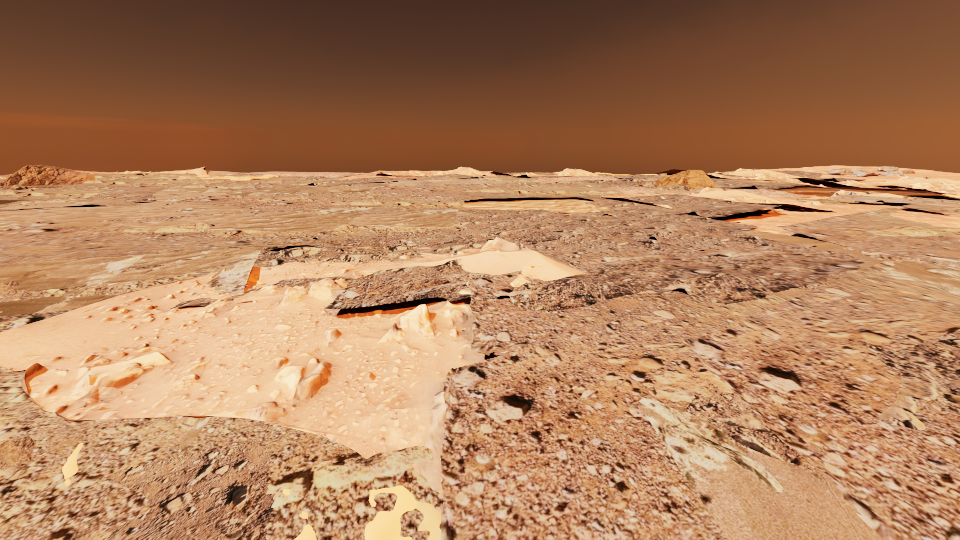bedrock: (114, 173, 872, 311), (28, 437, 443, 539), (600, 342, 819, 470), (810, 313, 959, 429), (273, 259, 491, 309), (0, 366, 73, 454), (0, 184, 157, 207), (790, 192, 959, 212), (288, 176, 547, 186), (829, 225, 959, 239), (711, 178, 804, 196), (457, 187, 619, 195), (323, 200, 463, 209), (400, 508, 429, 539), (775, 170, 864, 180), (82, 180, 214, 185), (261, 173, 361, 179), (221, 287, 262, 300), (170, 297, 217, 308), (251, 196, 311, 201), (95, 175, 192, 178), (167, 185, 229, 188), (716, 172, 747, 177), (424, 174, 468, 176), (533, 172, 556, 174)
hole: (787, 191, 835, 195)
rocks: (0, 165, 94, 187), (656, 170, 717, 187), (824, 166, 914, 176)
sand: (637, 398, 883, 539), (707, 196, 959, 295), (0, 186, 457, 231), (0, 247, 262, 316), (365, 486, 441, 539), (764, 165, 959, 184), (462, 197, 612, 213), (178, 417, 210, 454), (174, 170, 300, 179), (62, 443, 82, 485), (319, 171, 418, 179), (770, 288, 811, 300), (825, 187, 922, 191), (294, 524, 316, 539), (927, 192, 959, 197), (799, 195, 829, 198), (481, 171, 497, 175), (299, 511, 307, 518), (718, 322, 730, 326), (283, 489, 289, 494)
soil: (0, 208, 959, 539), (159, 174, 691, 216), (0, 222, 460, 265), (13, 178, 333, 193), (776, 185, 959, 198), (0, 281, 80, 301), (564, 250, 642, 270), (96, 213, 236, 223), (723, 175, 819, 186), (77, 171, 199, 176), (219, 172, 365, 176), (900, 204, 952, 215), (481, 239, 515, 251), (454, 209, 518, 215), (393, 176, 471, 180), (851, 183, 902, 189), (381, 171, 434, 175), (123, 265, 163, 270), (780, 192, 813, 197), (563, 175, 616, 178), (0, 196, 52, 199), (726, 187, 760, 191), (826, 181, 848, 186), (525, 276, 542, 282), (463, 248, 480, 254), (656, 171, 675, 174), (761, 200, 774, 204)
